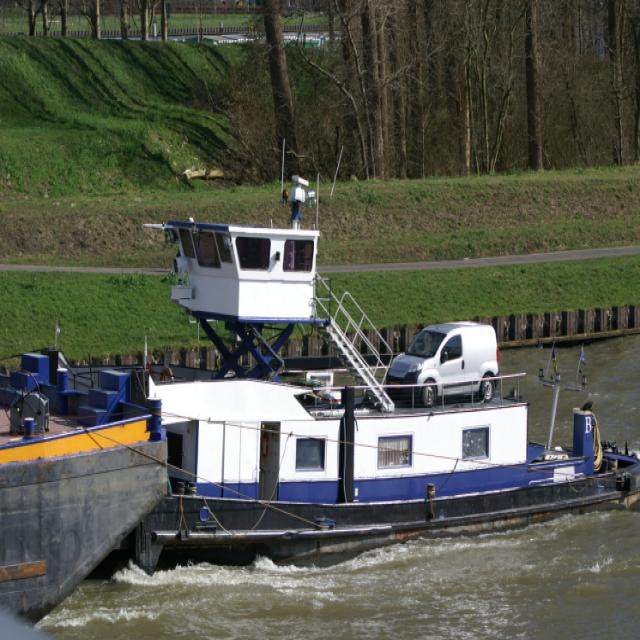tugboat: (32, 169, 640, 590)
